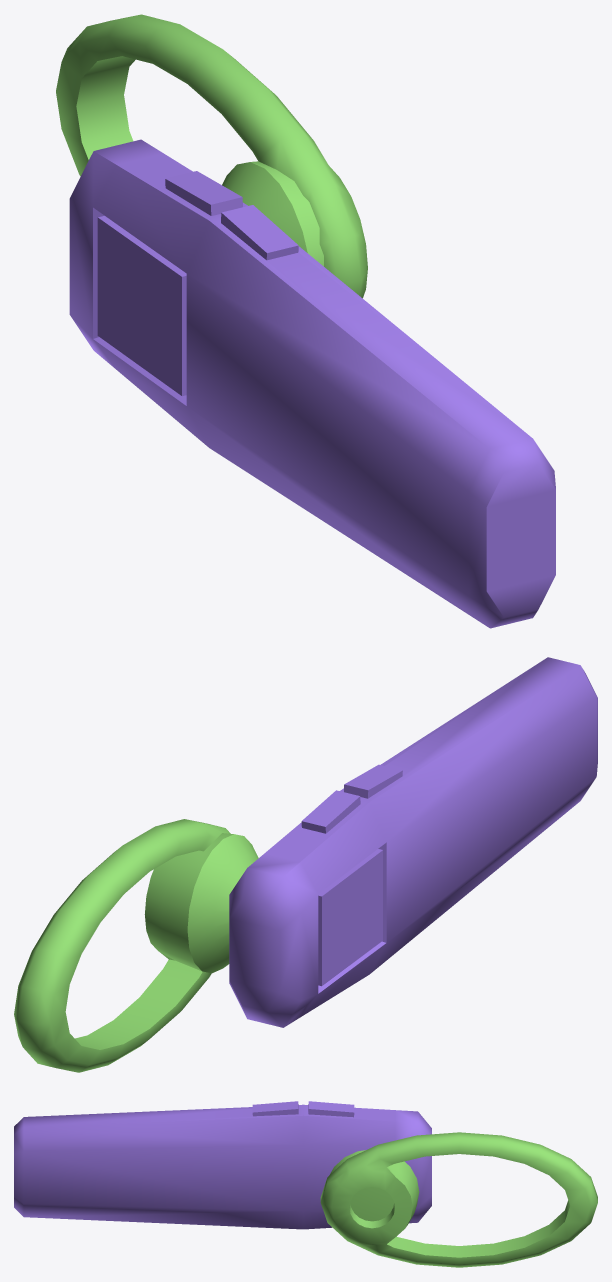
3 views of the same model, one above another, from view 1: azimuth 30°, elevation 25°; view 2: azimuth 150°, elevation 25°; view 3: azimuth 270°, elevation 25° (orthographic). The views are drawn at different scales.
Visible parts, largest first — view 1: Object_4.028, Object_4; view 2: Object_4.028, Object_4; view 3: Object_4.028, Object_4.
Part boxes in pixels (x1,y1,x2,y2): Object_4.028: [69, 139, 555, 628]; Object_4: [56, 14, 367, 298]; Object_4.028: [229, 657, 597, 1027]; Object_4: [14, 819, 258, 1072]; Object_4.028: [14, 1101, 431, 1229]; Object_4: [320, 1132, 597, 1267].
Size of the model in its own units: 0.2113 by 0.2449 by 1.
